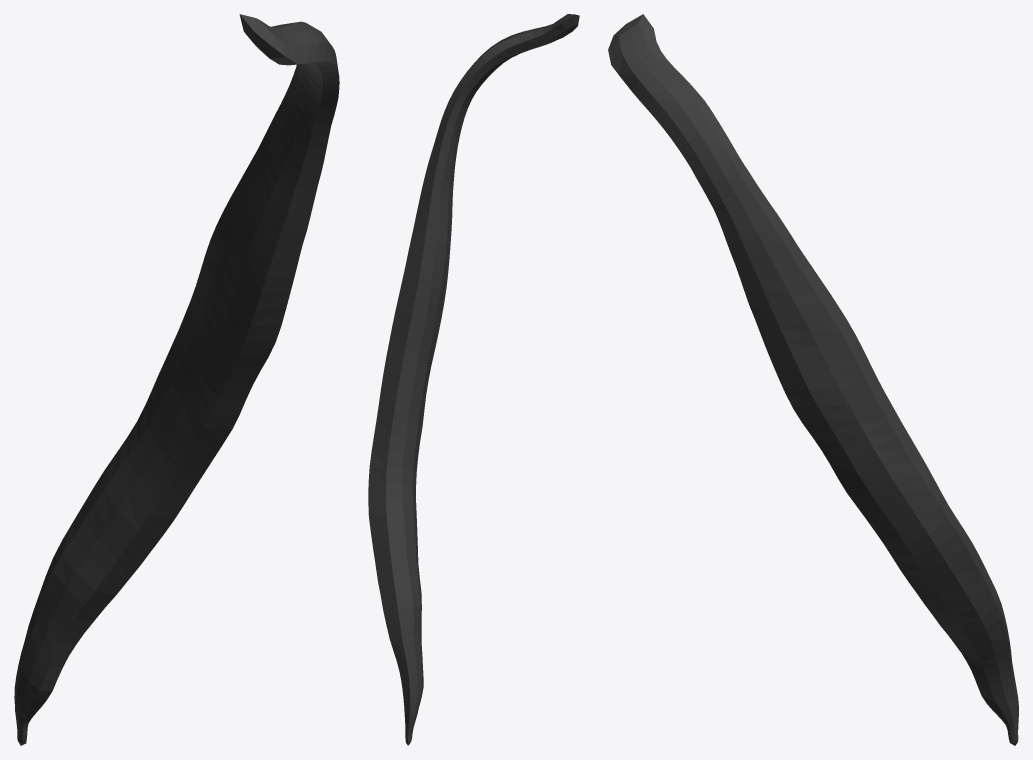
File: Sternocephalic_cerv.glb
3 views of the same model, side by side, from view 1: azimuth 30°, elevation 25°; view 2: azimuth 150°, elevation 25°; view 3: azimuth 270°, elevation 25° (orthographic). The views are drawn at different scales.
Visible parts, largest first — view 1: Sternocephalic_cerv; view 2: Sternocephalic_cerv; view 3: Sternocephalic_cerv.
Boxes of the visible parts, box(x1,y1,x2,y2) form: Sternocephalic_cerv: box(14, 14, 339, 745); Sternocephalic_cerv: box(368, 14, 579, 745); Sternocephalic_cerv: box(608, 14, 1018, 745).
Bounding box in the file's own units: 0.1875 × 1.13 × 0.5798.
1 material, 1 textured.
